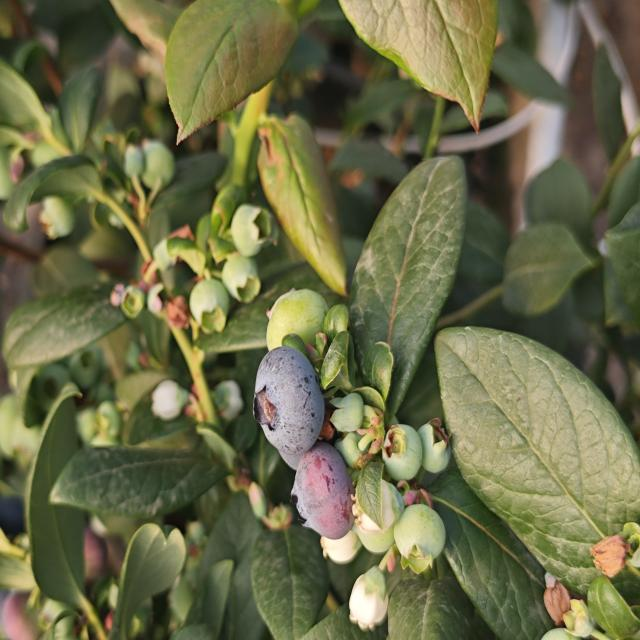ripe: (251, 333, 325, 453)
